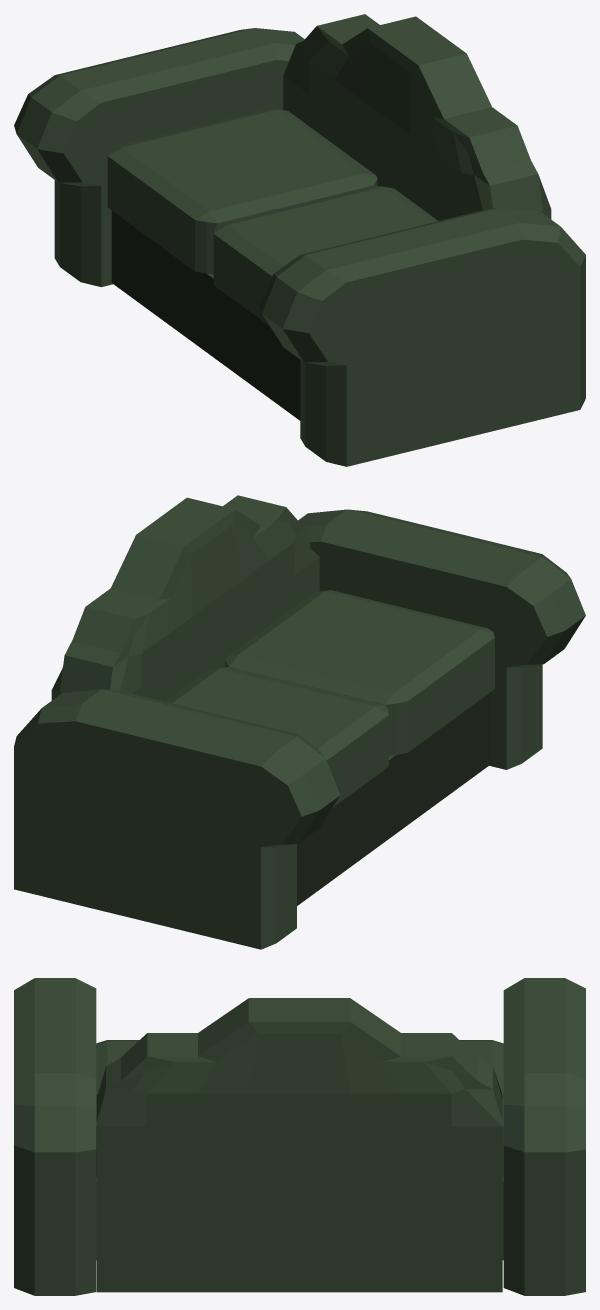
The model's file is Couch_Onai.glb.
3 renders of one model, top to bottom at view 1: azimuth 30°, elevation 25°; view 2: azimuth 150°, elevation 25°; view 3: azimuth 270°, elevation 25°, orthographic.
Parts seen in each view (by area): view 1: Cube; view 2: Cube; view 3: Cube.
Part boxes in pixels (x1,y1,x2,y2): Cube: (14,14,585,466); Cube: (14,495,585,949); Cube: (14,978,585,1295).
Size of the model in its own units: 3.31 by 2.81 by 5.42.
Materials: 2 (2 with a texture image).
